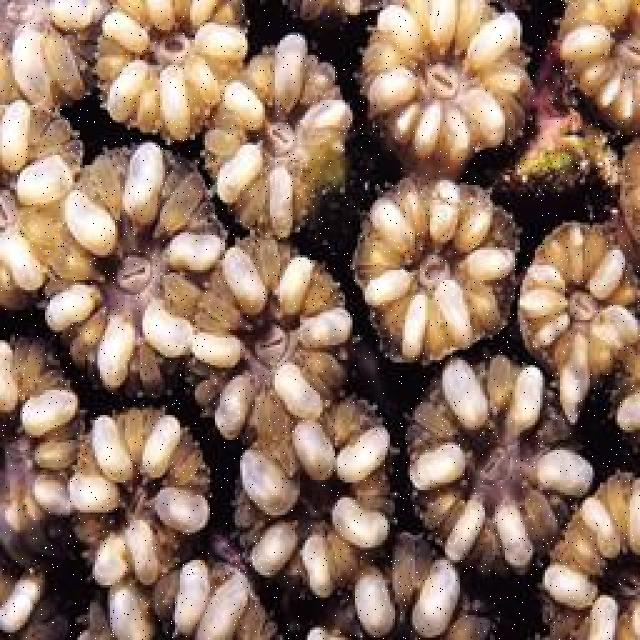reefs: (42, 145, 230, 392), (407, 354, 576, 574), (188, 237, 356, 445), (353, 172, 524, 364), (232, 396, 395, 597), (201, 32, 354, 241), (361, 2, 539, 176), (69, 406, 210, 584), (518, 220, 638, 422), (92, 3, 247, 143), (1, 96, 80, 309), (0, 0, 109, 114), (560, 0, 638, 131)
